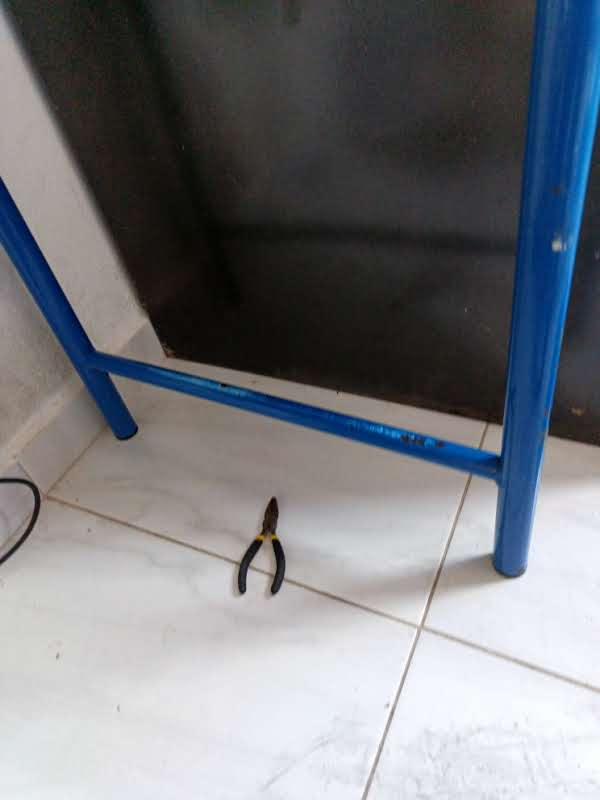Pinzas: (239, 497, 285, 596)
